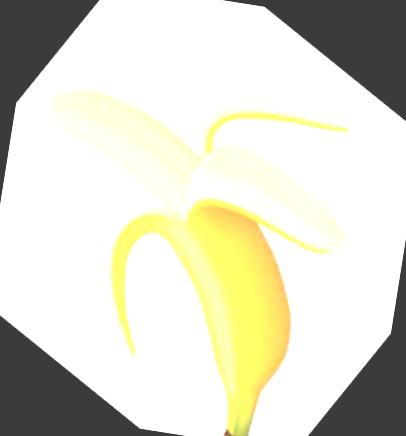Banana Ripe: (0, 1, 406, 436)
